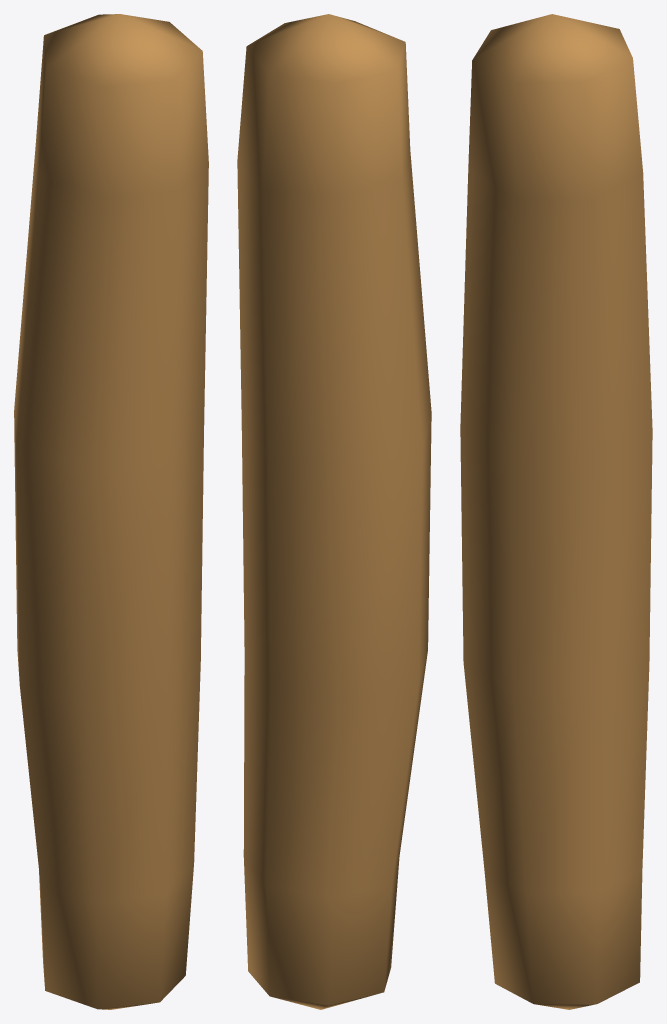
The model's file is tarsus3_T2_left_leg.obj.
3 renders of one model, left to right at view 1: azimuth 30°, elevation 25°; view 2: azimuth 150°, elevation 25°; view 3: azimuth 270°, elevation 25°, orthographic.
Size of the model in its own units: 0.00251 by 0.014 by 0.00245.
